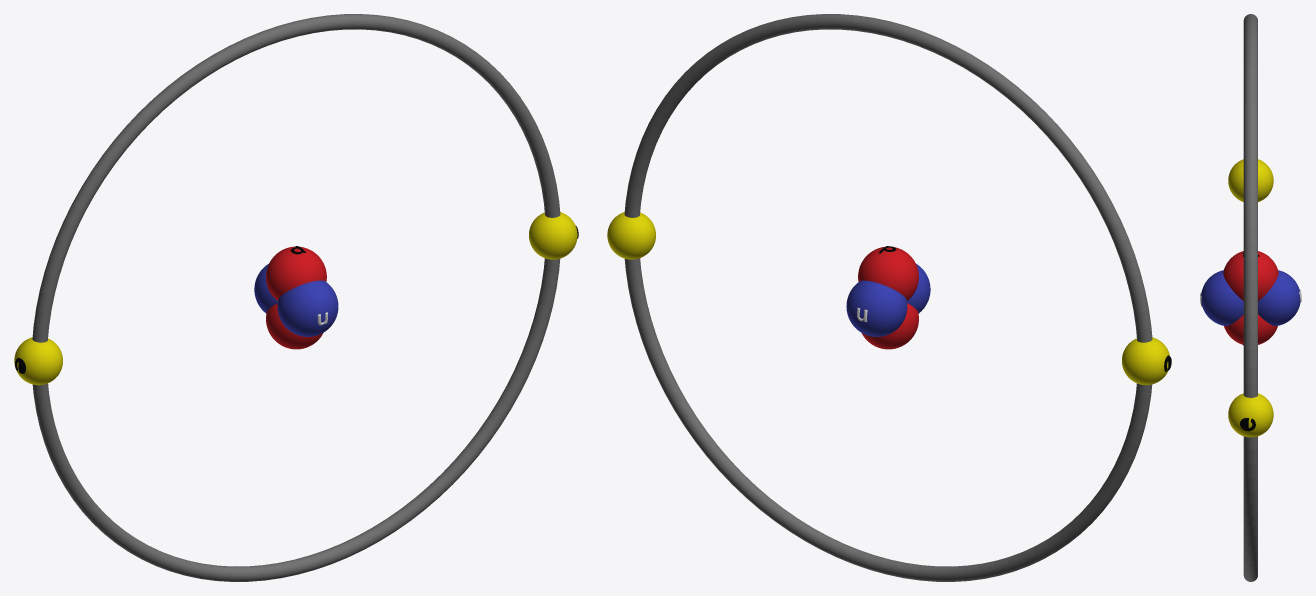
The model's file is Helium Atom.obj.
The picture shows the model from 3 angles, left to right: view 1: azimuth 30°, elevation 25°; view 2: azimuth 150°, elevation 25°; view 3: azimuth 270°, elevation 25°; orthographic projection. The views are drawn at different scales.
Visible parts, largest first — view 1: Object.6, Object.3, Object.1, Object.7, Object.5, Object.2; view 2: Object.6, Object.4, Object.1, Object.7, Object.5, Object.2; view 3: Object.6, Object.3, Object.4, Object.5, Object.1, Object.7, Object.2.
Part boxes in pixels (<box>): Object.6: <box>32,14,560,581</box>; Object.3: <box>277,280,338,336</box>; Object.1: <box>266,246,326,300</box>; Object.7: <box>14,337,62,385</box>; Object.5: <box>529,212,578,259</box>; Object.2: <box>266,303,323,349</box>; Object.6: <box>624,14,1152,581</box>; Object.4: <box>846,280,907,336</box>; Object.1: <box>858,246,918,300</box>; Object.7: <box>1122,337,1171,385</box>; Object.5: <box>607,212,655,259</box>; Object.2: <box>861,303,918,349</box>; Object.6: <box>1243,14,1257,581</box>; Object.3: <box>1200,270,1243,325</box>; Object.4: <box>1258,270,1301,325</box>; Object.5: <box>1228,393,1273,437</box>; Object.1: <box>1223,251,1278,300</box>; Object.7: <box>1228,159,1273,201</box>; Object.2: <box>1224,314,1277,345</box>.
Bounding box in the file's own units: 423 × 400 × 71.42.
